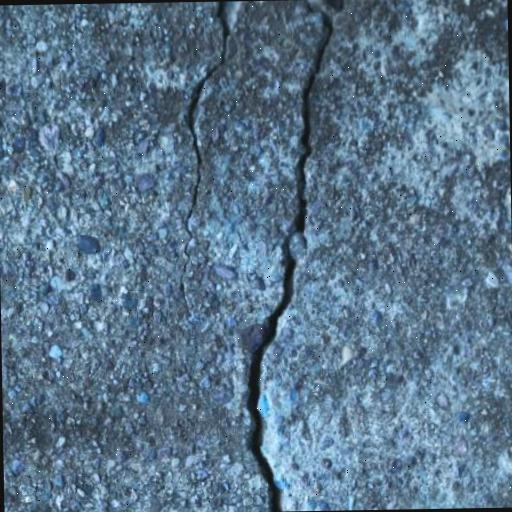spalling: (236, 0, 341, 511), (177, 5, 238, 322)
